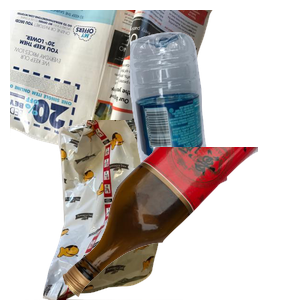glass: (60, 147, 300, 300)
paper: (10, 10, 215, 186)
plastic: (127, 29, 300, 209)
trash: (25, 120, 198, 300)
